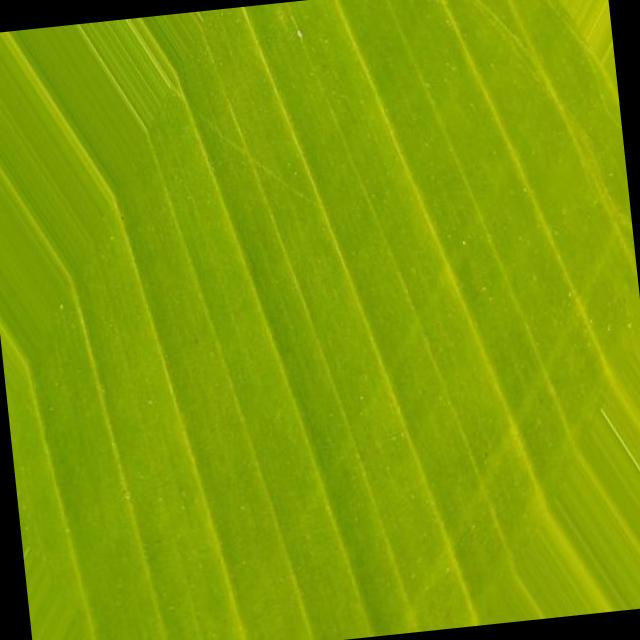Banana_Healthy: (128, 120, 532, 578)
